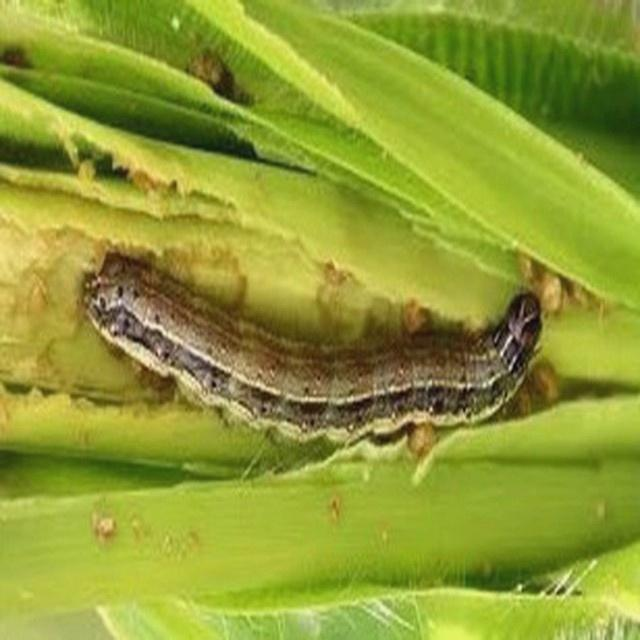gusano_cogollero: (85, 252, 540, 445)
